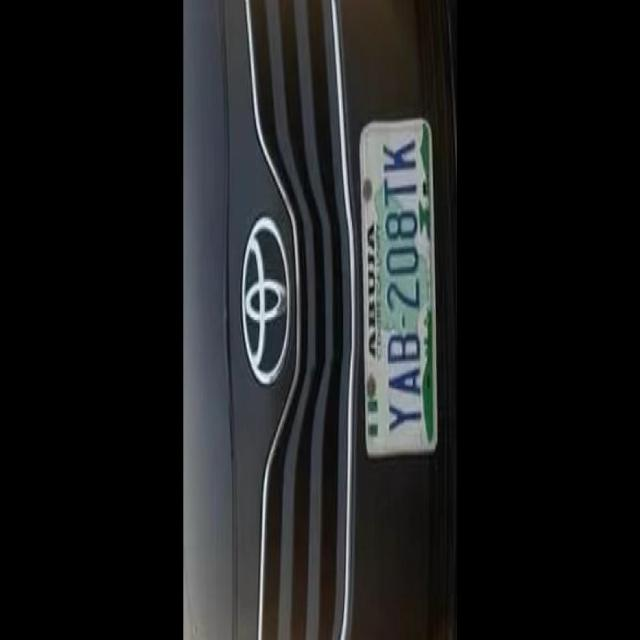Nigerian License Plate - vdataset benjamin-daria: (363, 118, 434, 455)
